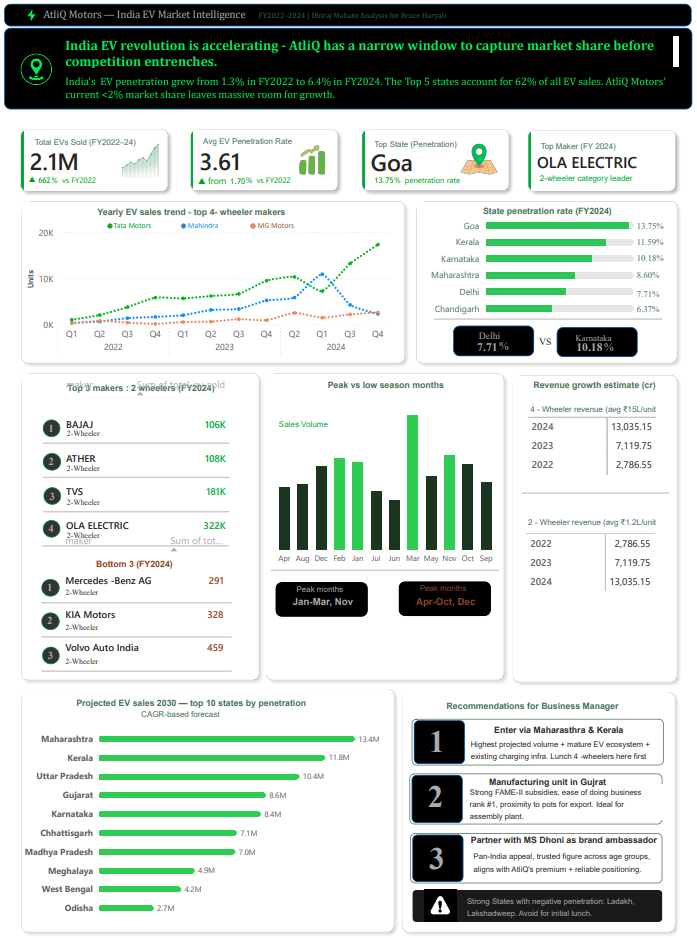

The dashboard page shown, as its layout file describes it:
{"tool":"powerbi","page":{"name":"AtliQ Motor Dashboard","canvas":[960,1300],"ordinal":0},"visuals":[{"type":"shape","box":[20.9,270.4,542.7,238.5],"z":0,"group":"g12"},{"type":"group","id":"g1","title":"Group 11","box":[563.4,270.4,374.2,238.6],"z":0,"group":"g17"},{"type":"tableEx","fields":{"Values":["gold_ev_sales_by_maker.maker","Sum(gold_ev_sales_by_maker.total_ev_sold)"]},"box":[79.4,501.7,277.4,256],"z":0,"group":"g8"},{"type":"shape","box":[20.8,506,343,438],"z":0,"group":"g9"},{"type":"tableEx","fields":{"Values":["gold_ev_sales_by_maker.maker","Sum(gold_ev_sales_by_maker.total_ev_sold)"]},"box":[78.8,715.7,288,211],"z":0,"group":"g21"},{"type":"shape","box":[547,800,127,48],"z":0,"group":"g22"},{"type":"shape","box":[378,801,127,48],"z":0,"group":"g20"},{"type":"shape","box":[543,944,391,346],"z":0},{"type":"textbox","box":[584,991,57,62],"z":0,"group":"g2"},{"type":"textbox","box":[581.1,1066.2,57.2,67.8],"z":0,"group":"g6"},{"type":"shape","box":[563.4,270.4,374.2,238.6],"z":1000,"group":"g11"},{"type":"lineChart","title":"Yearly EV sales Trend — top 4-wheeler makers","fields":{"Category":["gold_ev_sales_by_maker.fiscal_year","gold_ev_sales_by_maker.quarter"],"Series":["gold_ev_sales_by_maker.maker"],"Y":["Sum(gold_ev_sales_by_maker.total_ev_sold)"]},"box":[31.9,307,507.1,193.3],"z":1000,"group":"g12"},{"type":"shape","box":[596.9,365.8,312.3,149.9],"z":1000,"group":"g17"},{"type":"textbox","box":[86.7,580.7,190.7,29.5],"z":1000,"group":"g8"},{"type":"textbox","box":[571,795,162,41],"z":1000,"group":"g22"},{"type":"textbox","box":[402,796,162,41],"z":1000,"group":"g20"},{"type":"textbox","box":[85.2,799.7,193.9,29.5],"z":1000,"group":"g21"},{"type":"group","id":"g2","title":"Group 18","box":[565,989,346,64],"z":1000},{"type":"group","id":"g3","title":"Group 19","box":[565,989,346,64],"z":1000,"group":"g2"},{"type":"group","id":"g4","title":"Group 19","box":[562,1064,347,70],"z":1000,"group":"g6"},{"type":"textbox","box":[128.7,278.1,331.8,45],"z":2000,"group":"g12"},{"type":"shape","box":[58.8,577.5,24.1,24.3],"z":2000,"group":"g8"},{"type":"shape","box":[715.6,603.3,201.7,150],"z":2000,"group":"g23"},{"type":"shape","box":[56.8,796.5,24.5,24.3],"z":2000,"group":"g21"},{"type":"textbox","box":[566,813,162,41],"z":2000,"group":"g22"},{"type":"textbox","box":[397,814,162,41],"z":2000,"group":"g20"},{"type":"textbox","box":[583,1133,57,62],"z":2000},{"type":"image","box":[143.2,306.6,16.5,12.6],"z":3000,"group":"g12"},{"type":"textbox","box":[61.8,575.4,33.4,31.2],"z":3000,"group":"g8"},{"type":"textbox","box":[59.8,794.4,34,31.2],"z":3000,"group":"g21"},{"type":"shape","box":[21,940,528,350],"z":3000},{"type":"group","id":"g5","title":"Group 10","box":[563.4,270.4,374.2,238.6],"z":3500,"group":"g1"},{"type":"textbox","box":[658.8,277.1,206.8,37.7],"z":4000,"group":"g1"},{"type":"textbox","box":[151,296.4,191,29.9],"z":4000,"group":"g12"},{"type":"textbox","box":[86.5,628.7,190.9,28.6],"z":4000,"group":"g8"},{"type":"textbox","box":[85,847.7,194.2,28.6],"z":4000,"group":"g21"},{"type":"group","id":"g6","title":"Group 18","box":[562,1064,347,70],"z":4000},{"type":"cardVisual","fields":{"Data":[" Measure.total_ev_sold"]},"box":[0,150.9,259.1,141.8],"z":5000,"group":"g10"},{"type":"textbox","box":[252.9,296.9,191.1,29.4],"z":5000,"group":"g12"},{"type":"shape","box":[696,509,241,438],"z":5000},{"type":"textbox","box":[86.5,675.8,190.9,27.5],"z":5000,"group":"g8"},{"type":"textbox","box":[85,894.8,194.2,27.5],"z":5000,"group":"g21"},{"type":"cardVisual","fields":{"Data":[" Measure.Penetration Rate %"]},"box":[232.7,150.9,259,141],"z":6000,"group":"g13"},{"type":"image","box":[241.4,306.2,20.6,12.1],"z":6000,"group":"g12"},{"type":"textbox","box":[86.5,720.3,190.9,28.1],"z":6000,"group":"g8"},{"type":"shape","box":[57.2,842.3,24.5,24.3],"z":6000,"group":"g21"},{"type":"textbox","box":[584,991,52,60],"z":6000},{"type":"group","id":"g7","title":"Group 19","box":[563,1146,346,69],"z":6000,"group":"g24"},{"type":"cardVisual","fields":{"Data":["Min(gold_ev_sales_by_state.state)"]},"box":[468.2,150.9,259,141.5],"z":7000,"group":"g14"},{"type":"textbox","box":[348.5,296.9,191.1,29.4],"z":7000,"group":"g12"},{"type":"shape","box":[357,506,343,438],"z":7000},{"type":"shape","box":[59.2,623.2,24.1,24.3],"z":7000,"group":"g8"},{"type":"textbox","box":[60.3,840.2,34,31.2],"z":7000,"group":"g21"},{"type":"cardVisual","fields":{"Data":["Min(gold_ev_sales_by_maker.maker)"]},"box":[696.4,151.8,259,141],"z":8000,"group":"g15"},{"type":"image","box":[336.2,306,20.6,12.1],"z":8000,"group":"g12"},{"type":"group","id":"g8","title":"Group 13","box":[58.8,501.7,298,256],"z":8000,"group":"g21"},{"type":"textbox","box":[62.2,621.2,33.4,31.2],"z":8000,"group":"g8"},{"type":"textbox","box":[582,1066,52,60],"z":8000},{"type":"group","id":"g9","title":"Group 16","box":[20.8,501.7,345.8,441.7],"z":9000},{"type":"shape","box":[59.4,670.7,24.1,24.3],"z":9000,"group":"g8"},{"type":"shape","box":[57.4,889.7,24.5,24.3],"z":9000,"group":"g21"},{"type":"textbox","box":[62.4,668.6,33.4,31.2],"z":10000,"group":"g8"},{"type":"shape","box":[372,710,313,150],"z":10000},{"type":"shape","box":[57.8,734.7,256.4,33],"z":10000,"group":"g21"},{"type":"group","id":"g10","title":"Group 2","box":[0,150.9,259.1,141.8],"z":11000},{"type":"shape","box":[58.9,715.5,24.1,24.3],"z":11000,"group":"g8"},{"type":"textbox","box":[60.4,887.6,34,31.2],"z":11000,"group":"g21"},{"type":"shape","box":[6.1,40.5,943.5,111.7],"z":12000},{"type":"textbox","box":[87.8,520,227,38],"z":12000,"group":"g9"},{"type":"shape","box":[58.8,640.7,256.4,33],"z":12000,"group":"g21"},{"type":"textbox","box":[61.8,713.4,33.4,31.2],"z":12000,"group":"g8"},{"type":"textbox","box":[584,1151,52,60],"z":12000,"group":"g24"},{"type":"textbox","box":[85.4,47.2,852,52.5],"z":13000},{"type":"shape","box":[58.8,687.7,256.4,33],"z":13000,"group":"g21"},{"type":"textbox","box":[445,516,207,37],"z":14000},{"type":"shape","box":[58.8,593.7,256.4,33],"z":14000,"group":"g21"},{"type":"textbox","box":[85.4,99.7,852,52.5],"z":15000},{"type":"textbox","box":[43.2,181.7,177.1,43.4],"z":15000,"group":"g10"},{"type":"textbox","box":[126.8,761.7,227,38],"z":15000,"group":"g21"},{"type":"group","id":"g11","title":"Group 9","box":[563.4,270.4,374.2,238.6],"z":15500,"group":"g5"},{"type":"textbox","box":[271.1,180.9,182.1,43.4],"z":16000,"group":"g13"},{"type":"clusteredBarChart","fields":{"Category":["gold_ev_sales_by_state.state"],"Y":[" Measure.Penetration Rate %"]},"box":[580.1,285.5,306.4,159.9],"z":16000,"group":"g5"},{"type":"image","box":[445.3,417.1,13.9,12.6],"z":16000},{"type":"shape","box":[56.8,859.7,260.8,33],"z":16000,"group":"g21"},{"type":"image","box":[20.7,70.6,57,52.5],"z":17000},{"type":"textbox","box":[506.6,184.4,182.1,43.5],"z":17000,"group":"g14"},{"type":"shape","box":[56.8,906.7,260.8,33],"z":17000,"group":"g21"},{"type":"shape","box":[5.9,6.7,943.5,31],"z":18000},{"type":"textbox","box":[734.8,186.6,182.1,43.1],"z":18000,"group":"g15"},{"type":"shape","box":[622,449.6,111.3,41.9],"z":18000,"group":"g11"},{"type":"shape","box":[56.8,812.7,260.8,33],"z":18000,"group":"g21"},{"type":"image","box":[30.1,12.6,25.1,19.3],"z":19000},{"type":"textbox","box":[736.1,230.5,162.1,40.7],"z":19000,"group":"g15"},{"type":"textbox","box":[735,457.1,55.3,47.7],"z":19000,"group":"g11"},{"type":"textbox","box":[55.3,6.7,442.1,44.4],"z":20000},{"type":"textbox","box":[652.1,449.6,55.3,31.8],"z":20000,"group":"g16"},{"type":"shape","box":[764.3,451.2,111.3,41],"z":20000,"group":"g11"},{"type":"textbox","box":[349.9,6.7,442.1,44.4],"z":21000},{"type":"textbox","box":[869.8,297.2,67.8,36],"z":21000,"group":"g11"},{"type":"textbox","box":[719.8,547.6,194.2,43.3],"z":21000,"group":"g23"},{"type":"group","id":"g12","title":"Group 1","box":[20.9,270.4,542.5,238.6],"z":22000},{"type":"textbox","box":[869.8,319,67.8,36],"z":22000,"group":"g11"},{"type":"cardVisual","fields":{"Data":[" Measure.Penetration Rate %"]},"box":[762.7,454.6,101.3,46.9],"z":22000,"group":"g18"},{"type":"group","id":"g13","title":"Group 3","box":[232.7,150.9,259.1,140.9],"z":23000},{"type":"textbox","box":[869.8,341.6,67.8,36],"z":23000,"group":"g11"},{"type":"textbox","box":[786.1,451.2,77.9,33.5],"z":23000,"group":"g19"},{"type":"textbox","box":[869.8,365.8,67.8,36],"z":24000,"group":"g11"},{"type":"cardVisual","fields":{"Data":[" Measure.Penetration Rate %"]},"box":[626.2,454.6,103.8,46.9],"z":24000,"group":"g16"},{"type":"pivotTable","fields":{"Values":[" Measure.Revenue 4W Cr"],"Rows":["gold_ev_sales_by_maker.fiscal_year"]},"box":[719.8,534.8,193.3,129.2],"z":24000,"group":"g23"},{"type":"textbox","box":[670,989,216,43],"z":24000},{"type":"group","id":"g14","title":"Group 4","box":[468.2,150.9,259.1,141.8],"z":25000},{"type":"textbox","box":[869.8,390.1,67.8,36],"z":25000,"group":"g11"},{"type":"textbox","box":[825.5,465.4,38.5,31.8],"z":25000,"group":"g19"},{"type":"textbox","box":[869.8,411.1,67.8,36],"z":26000,"group":"g11"},{"type":"textbox","box":[679.8,463.8,38.5,31.8],"z":26000,"group":"g16"},{"type":"textbox","box":[186,967,142,32],"z":26000},{"type":"group","id":"g15","title":"Group 5","box":[696.4,151.8,259,141],"z":27000},{"type":"group","id":"g16","title":"Group 6","box":[626.2,449.6,103.8,51.9],"z":27000,"group":"g11"},{"type":"group","id":"g17","title":"Group 12","box":[563.4,270.4,374.2,245.3],"z":28000},{"type":"group","id":"g18","title":"Group 7","box":[762.7,451.2,101.3,50.2],"z":28000,"group":"g11"},{"type":"group","id":"g19","title":"Group 8","box":[786.1,451.2,77.9,46],"z":28001,"group":"g18"},{"type":"shape","box":[568,991,70,60],"z":28503,"group":"g3"},{"type":"shape","box":[565,1066.2,70.2,65.6],"z":28503,"group":"g4"},{"type":"shape","box":[566,1148.2,70,64.7],"z":28503,"group":"g7"},{"type":"clusteredColumnChart","fields":{"Category":["gold_dim_date.Month Name"],"Y":[" Measure.EV Sold by Month"]},"box":[368,553,322,233],"z":29000},{"type":"shape","box":[565,989,346,64],"z":29003,"group":"g3"},{"type":"shape","box":[562,1064,347,70],"z":29003,"group":"g4"},{"type":"shape","box":[563,1146,346,69],"z":29003,"group":"g7"},{"type":"textbox","box":[378,569,162,41],"z":30000},{"type":"group","id":"g20","title":"Group 14","box":[378,796,186,59],"z":31000},{"type":"group","id":"g21","title":"Group 15","box":[56.8,501.7,310,438],"z":31001,"group":"g9"},{"type":"group","id":"g22","title":"Group 14","box":[547,795,186,59],"z":32000},{"type":"textbox","box":[726.7,516,206.7,36.7],"z":33000},{"type":"pivotTable","fields":{"Values":[" Measure.Revenue 4W Cr"],"Rows":["gold_ev_sales_by_maker.fiscal_year"]},"box":[718.3,695,194.2,129.2],"z":34000},{"type":"textbox","box":[716.7,704.2,193.3,42.5],"z":35000},{"type":"group","id":"g23","title":"Group 17","box":[715.6,534.8,201.7,218.5],"z":36000},{"type":"clusteredBarChart","fields":{"Category":["gold_ev_sales_by_state.state"],"Y":[" Measure.Projected EV Sales 2030"]},"box":[28,983,499,292],"z":37000},{"type":"textbox","box":[100,952,326,37],"z":38000},{"type":"textbox","box":[608,957,278,32],"z":39000},{"type":"textbox","box":[641,1008,261,51],"z":40000},{"type":"textbox","box":[663,1061,216,43],"z":41000},{"type":"textbox","box":[640,1074,277,60],"z":42000},{"type":"group","id":"g24","title":"Group 20","box":[563,1141,362,74],"z":43000},{"type":"shape","box":[566,1224,343,44],"z":44000},{"type":"textbox","box":[636,1224,277,60],"z":45000},{"type":"image","box":[566,1224,75,44],"z":46000},{"type":"cardVisual","fields":{"Data":[" Measure.EV Growth vs FY2022"]},"box":[24.3,220,114,56],"z":47000,"group":"g26"},{"type":"group","id":"g25","title":"Group 21","box":[267.4,220.5,163.3,56.4],"z":47000},{"type":"textbox","box":[638,1141,287,43],"z":47000,"group":"g24"},{"type":"group","id":"g26","title":"Group 22","box":[24.3,220,139.1,56],"z":48000},{"type":"textbox","box":[35.5,233,64.3,34.3],"z":48000,"group":"g26"},{"type":"textbox","box":[645,1163,277,52],"z":48000,"group":"g24"},{"type":"textbox","box":[66.2,233.6,97.1,27.1],"z":49000,"group":"g26"},{"type":"cardVisual","fields":{"Data":[" Measure.Penetration Rate %"]},"box":[485,173.6,146.4,147.1],"z":50000},{"type":"cardVisual","fields":{"Data":[" Measure.Penetration FY2022"]},"box":[287.4,220.5,114.5,56.4],"z":50000,"group":"g25"},{"type":"textbox","box":[536.4,233.6,122.7,27.3],"z":51000},{"type":"textbox","box":[267.4,234.1,87.3,33.6],"z":51000,"group":"g25"},{"type":"textbox","box":[333.5,233.7,97.1,27.1],"z":52000,"group":"g25"}]}

Visuals, with their boxes in screenshot pixels (x1, y1, x2, y2), scaled from the page's 960x1300 canvas onto the 697x938 screenshot:
shape: <bbox>15, 195, 409, 367</bbox>
"Group 11" group: <bbox>409, 195, 681, 367</bbox>
tableEx - gold_ev_sales_by_maker.maker x Sum(gold_ev_sales_by_maker.total_ev_sold): <bbox>58, 362, 259, 547</bbox>
shape: <bbox>15, 365, 264, 681</bbox>
tableEx - gold_ev_sales_by_maker.maker x Sum(gold_ev_sales_by_maker.total_ev_sold): <bbox>57, 516, 266, 669</bbox>
shape: <bbox>397, 577, 489, 612</bbox>
shape: <bbox>274, 578, 367, 613</bbox>
shape: <bbox>394, 681, 678, 931</bbox>
textbox: <bbox>424, 715, 465, 760</bbox>
textbox: <bbox>422, 769, 463, 818</bbox>
shape: <bbox>409, 195, 681, 367</bbox>
"Yearly EV sales Trend — top 4-wheeler makers" lineChart: <bbox>23, 222, 391, 361</bbox>
shape: <bbox>433, 264, 660, 372</bbox>
textbox: <bbox>63, 419, 201, 440</bbox>
textbox: <bbox>415, 574, 532, 603</bbox>
textbox: <bbox>292, 574, 409, 604</bbox>
textbox: <bbox>62, 577, 203, 598</bbox>
"Group 18" group: <bbox>410, 714, 661, 760</bbox>
"Group 19" group: <bbox>410, 714, 661, 760</bbox>
"Group 19" group: <bbox>408, 768, 660, 818</bbox>
textbox: <bbox>93, 201, 334, 233</bbox>
shape: <bbox>43, 417, 60, 434</bbox>
shape: <bbox>520, 435, 666, 544</bbox>
shape: <bbox>41, 575, 59, 592</bbox>
textbox: <bbox>411, 587, 529, 616</bbox>
textbox: <bbox>288, 587, 406, 617</bbox>
textbox: <bbox>423, 818, 465, 862</bbox>
image: <bbox>104, 221, 116, 230</bbox>
textbox: <bbox>45, 415, 69, 438</bbox>
textbox: <bbox>43, 573, 68, 596</bbox>
shape: <bbox>15, 678, 399, 931</bbox>
"Group 10" group: <bbox>409, 195, 681, 367</bbox>
textbox: <bbox>478, 200, 628, 227</bbox>
textbox: <bbox>110, 214, 248, 235</bbox>
textbox: <bbox>63, 454, 201, 474</bbox>
textbox: <bbox>62, 612, 203, 632</bbox>
"Group 18" group: <bbox>408, 768, 660, 818</bbox>
cardVisual -  Measure.total_ev_sold: <bbox>0, 109, 188, 211</bbox>
textbox: <bbox>184, 214, 322, 235</bbox>
shape: <bbox>505, 367, 680, 683</bbox>
textbox: <bbox>63, 488, 201, 507</bbox>
textbox: <bbox>62, 646, 203, 665</bbox>
cardVisual -  Measure.Penetration Rate %: <bbox>169, 109, 357, 211</bbox>
image: <bbox>175, 221, 190, 230</bbox>
textbox: <bbox>63, 520, 201, 540</bbox>
shape: <bbox>42, 608, 59, 625</bbox>
textbox: <bbox>424, 715, 462, 758</bbox>
"Group 19" group: <bbox>409, 827, 660, 877</bbox>
cardVisual - Min(gold_ev_sales_by_state.state): <bbox>340, 109, 528, 211</bbox>
textbox: <bbox>253, 214, 392, 235</bbox>
shape: <bbox>259, 365, 508, 681</bbox>
shape: <bbox>43, 450, 60, 467</bbox>
textbox: <bbox>44, 606, 68, 629</bbox>
cardVisual - Min(gold_ev_sales_by_maker.maker): <bbox>506, 110, 694, 211</bbox>
image: <bbox>244, 221, 259, 230</bbox>
"Group 13" group: <bbox>43, 362, 259, 547</bbox>
textbox: <bbox>45, 448, 69, 471</bbox>
textbox: <bbox>423, 769, 460, 812</bbox>
"Group 16" group: <bbox>15, 362, 266, 681</bbox>
shape: <bbox>43, 484, 61, 501</bbox>
shape: <bbox>42, 642, 59, 659</bbox>
textbox: <bbox>45, 482, 70, 505</bbox>
shape: <bbox>270, 512, 497, 621</bbox>
shape: <bbox>42, 530, 228, 554</bbox>
"Group 2" group: <bbox>0, 109, 188, 211</bbox>
shape: <bbox>43, 516, 60, 534</bbox>
textbox: <bbox>44, 640, 69, 663</bbox>
shape: <bbox>4, 29, 689, 110</bbox>
textbox: <bbox>64, 375, 229, 403</bbox>
shape: <bbox>43, 462, 229, 486</bbox>
textbox: <bbox>45, 515, 69, 537</bbox>
textbox: <bbox>424, 830, 462, 874</bbox>
textbox: <bbox>62, 34, 681, 72</bbox>
shape: <bbox>43, 496, 229, 520</bbox>
textbox: <bbox>323, 372, 473, 399</bbox>
shape: <bbox>43, 428, 229, 452</bbox>
textbox: <bbox>62, 72, 681, 110</bbox>
textbox: <bbox>31, 131, 160, 162</bbox>
textbox: <bbox>92, 550, 257, 577</bbox>
"Group 9" group: <bbox>409, 195, 681, 367</bbox>
textbox: <bbox>197, 131, 329, 162</bbox>
clusteredBarChart - gold_ev_sales_by_state.state x  Measure.Penetration Rate %: <bbox>421, 206, 644, 321</bbox>
image: <bbox>323, 301, 333, 310</bbox>
shape: <bbox>41, 620, 231, 644</bbox>
image: <bbox>15, 51, 56, 89</bbox>
textbox: <bbox>368, 133, 500, 164</bbox>
shape: <bbox>41, 654, 231, 678</bbox>
shape: <bbox>4, 5, 689, 27</bbox>
textbox: <bbox>533, 135, 666, 166</bbox>
shape: <bbox>452, 324, 532, 355</bbox>
shape: <bbox>41, 586, 231, 610</bbox>
image: <bbox>22, 9, 40, 23</bbox>
textbox: <bbox>534, 166, 652, 196</bbox>
textbox: <bbox>534, 330, 574, 364</bbox>
textbox: <bbox>40, 5, 361, 37</bbox>
textbox: <bbox>473, 324, 514, 347</bbox>
shape: <bbox>555, 326, 636, 355</bbox>
textbox: <bbox>254, 5, 575, 37</bbox>
textbox: <bbox>632, 214, 681, 240</bbox>
textbox: <bbox>523, 395, 664, 426</bbox>
"Group 1" group: <bbox>15, 195, 409, 367</bbox>
textbox: <bbox>632, 230, 681, 256</bbox>
cardVisual -  Measure.Penetration Rate %: <bbox>554, 328, 627, 362</bbox>
"Group 3" group: <bbox>169, 109, 357, 211</bbox>
textbox: <bbox>632, 246, 681, 272</bbox>
textbox: <bbox>571, 326, 627, 350</bbox>
textbox: <bbox>632, 264, 681, 290</bbox>
cardVisual -  Measure.Penetration Rate %: <bbox>455, 328, 530, 362</bbox>
pivotTable -  Measure.Revenue 4W Cr x gold_ev_sales_by_maker.fiscal_year: <bbox>523, 386, 663, 479</bbox>
textbox: <bbox>486, 714, 643, 745</bbox>
"Group 4" group: <bbox>340, 109, 528, 211</bbox>
textbox: <bbox>632, 281, 681, 307</bbox>
textbox: <bbox>599, 336, 627, 359</bbox>
textbox: <bbox>632, 297, 681, 323</bbox>
textbox: <bbox>494, 335, 522, 358</bbox>
textbox: <bbox>135, 698, 238, 721</bbox>
"Group 5" group: <bbox>506, 110, 694, 211</bbox>
"Group 6" group: <bbox>455, 324, 530, 362</bbox>
"Group 12" group: <bbox>409, 195, 681, 372</bbox>
"Group 7" group: <bbox>554, 326, 627, 362</bbox>
"Group 8" group: <bbox>571, 326, 627, 359</bbox>
shape: <bbox>412, 715, 463, 758</bbox>
shape: <bbox>410, 769, 461, 817</bbox>
shape: <bbox>411, 828, 462, 875</bbox>
clusteredColumnChart - gold_dim_date.Month Name x  Measure.EV Sold by Month: <bbox>267, 399, 501, 567</bbox>
shape: <bbox>410, 714, 661, 760</bbox>
shape: <bbox>408, 768, 660, 818</bbox>
shape: <bbox>409, 827, 660, 877</bbox>
textbox: <bbox>274, 411, 392, 440</bbox>
"Group 14" group: <bbox>274, 574, 409, 617</bbox>
"Group 15" group: <bbox>41, 362, 266, 678</bbox>
"Group 14" group: <bbox>397, 574, 532, 616</bbox>
textbox: <bbox>528, 372, 678, 399</bbox>
pivotTable -  Measure.Revenue 4W Cr x gold_ev_sales_by_maker.fiscal_year: <bbox>522, 501, 663, 595</bbox>
textbox: <bbox>520, 508, 661, 539</bbox>
"Group 17" group: <bbox>520, 386, 666, 544</bbox>
clusteredBarChart - gold_ev_sales_by_state.state x  Measure.Projected EV Sales 2030: <bbox>20, 709, 383, 920</bbox>
textbox: <bbox>73, 687, 309, 714</bbox>
textbox: <bbox>441, 691, 643, 714</bbox>
textbox: <bbox>465, 727, 655, 764</bbox>
textbox: <bbox>481, 766, 638, 797</bbox>
textbox: <bbox>465, 775, 666, 818</bbox>
"Group 20" group: <bbox>409, 823, 672, 877</bbox>
shape: <bbox>411, 883, 660, 915</bbox>
textbox: <bbox>462, 883, 663, 926</bbox>
image: <bbox>411, 883, 465, 915</bbox>
cardVisual -  Measure.EV Growth vs FY2022: <bbox>18, 159, 100, 199</bbox>
"Group 21" group: <bbox>194, 159, 313, 200</bbox>
textbox: <bbox>463, 823, 672, 854</bbox>
"Group 22" group: <bbox>18, 159, 119, 199</bbox>
textbox: <bbox>26, 168, 72, 193</bbox>
textbox: <bbox>468, 839, 669, 877</bbox>
textbox: <bbox>48, 169, 119, 188</bbox>
cardVisual -  Measure.Penetration Rate %: <bbox>352, 125, 458, 231</bbox>
cardVisual -  Measure.Penetration FY2022: <bbox>209, 159, 292, 200</bbox>
textbox: <bbox>389, 169, 479, 188</bbox>
textbox: <bbox>194, 169, 258, 193</bbox>
textbox: <bbox>242, 169, 313, 188</bbox>
